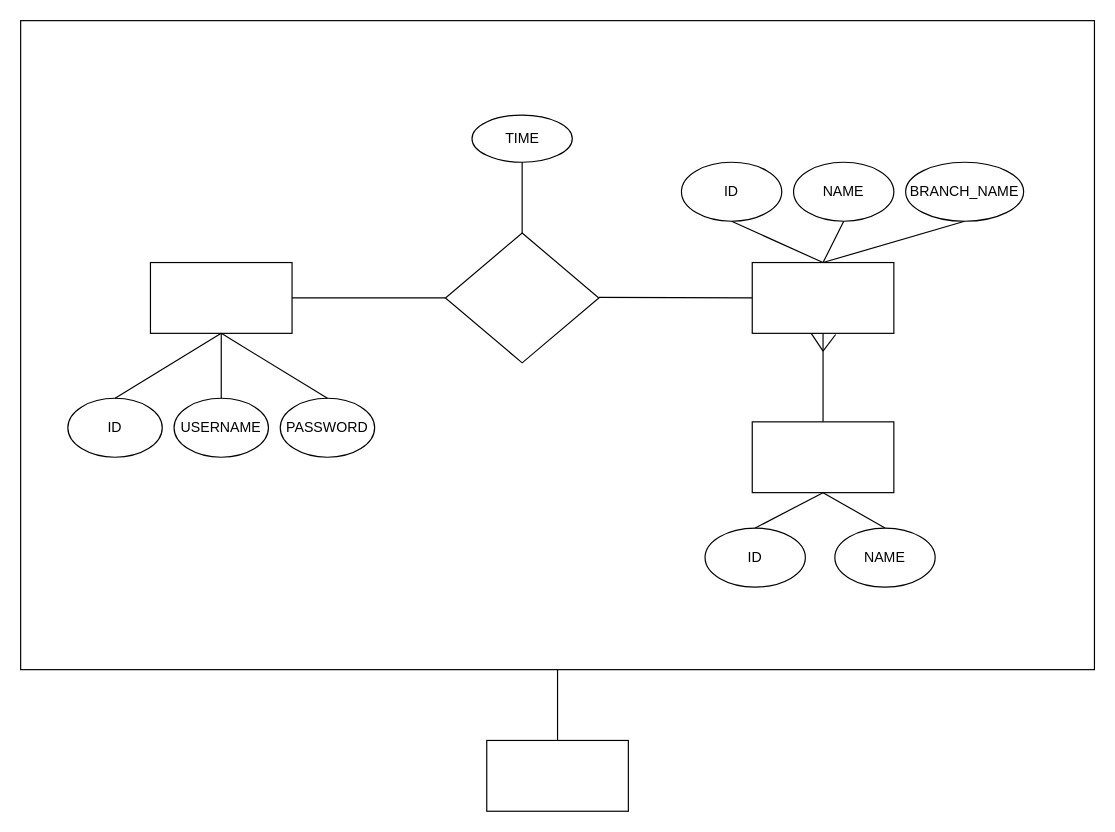
The diagram is 1115 pixels wide and 832 high, and some of its shapes have lost their labels. Here are the shapes that lost their labels. From the top down, the centre of each, then its label:
At [220,297]: "PATIENTS".
At [521,297]: "APPOINTMENTS".
At [822,297]: "DOCTORS".
At [822,457]: "BRANCH".
At [557,775]: "ADMIN".
